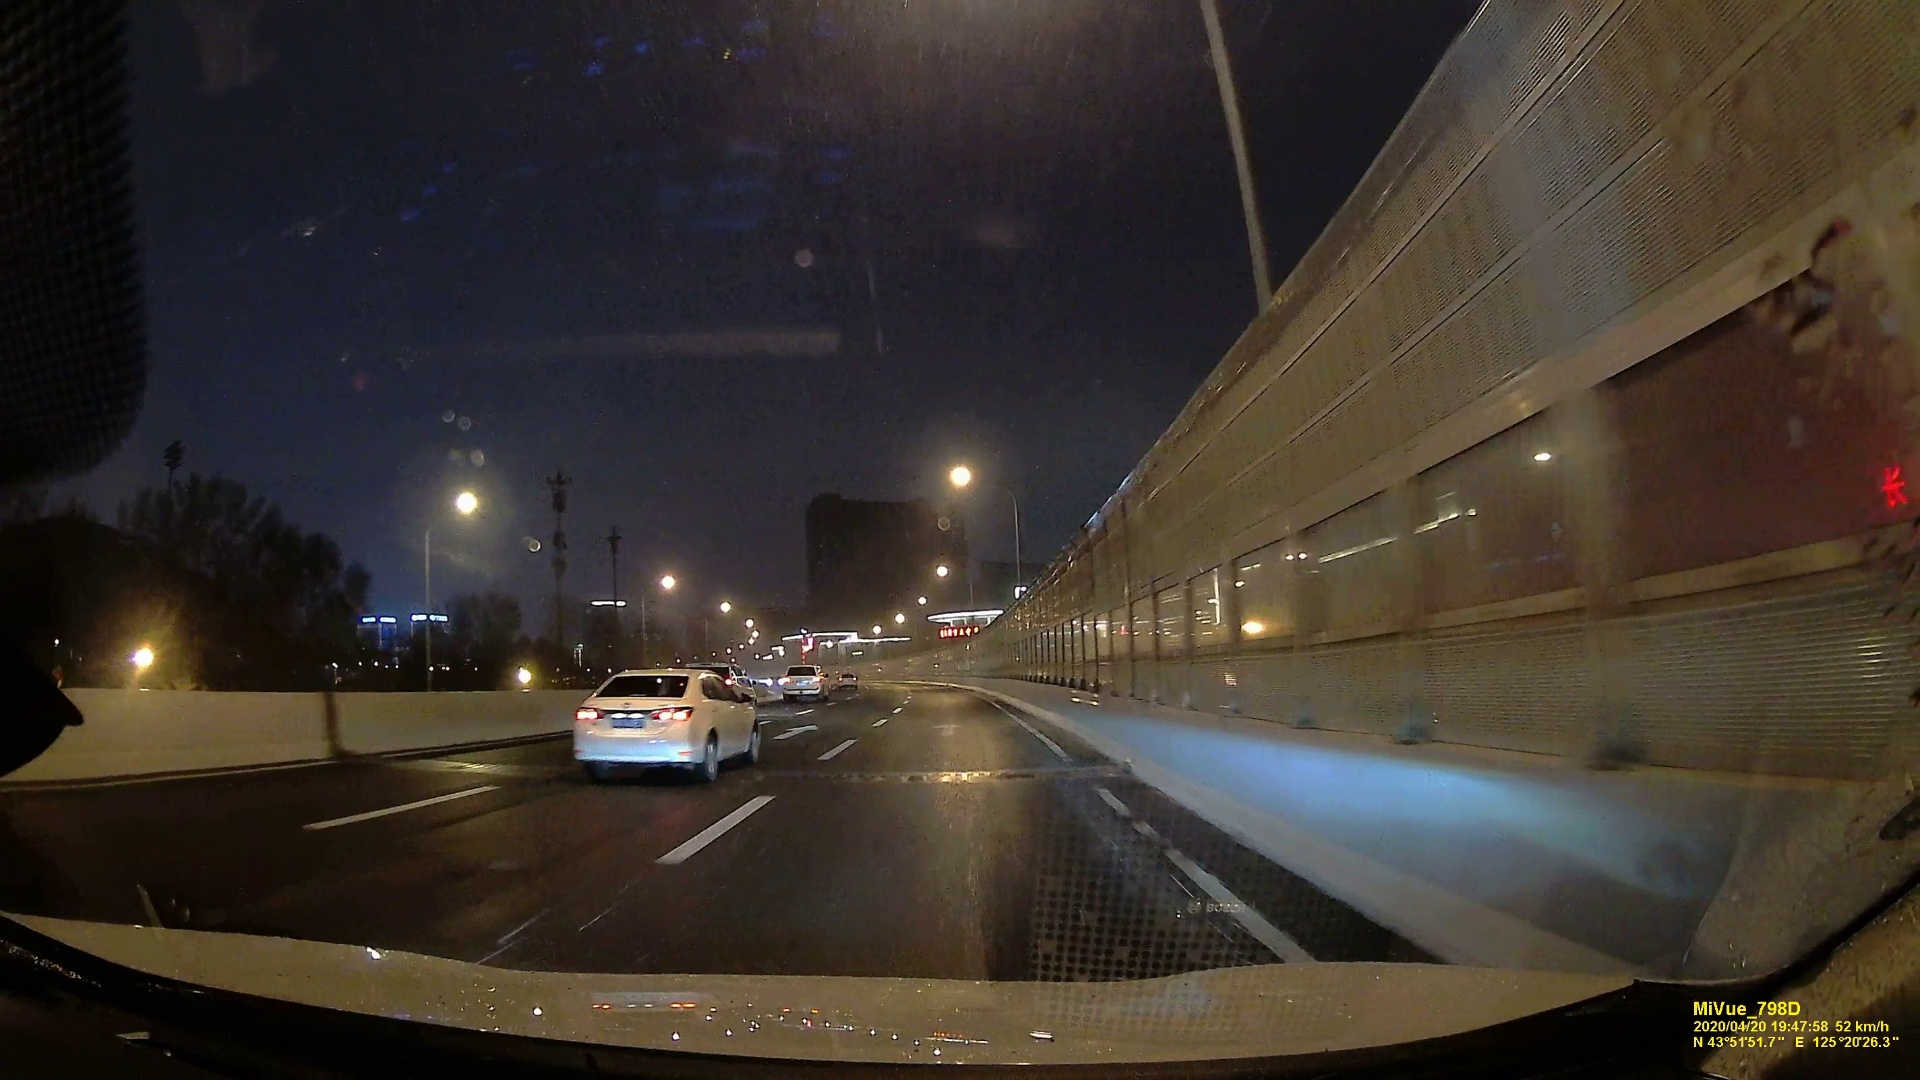vehicle: (574, 665, 761, 785), (781, 665, 827, 702), (839, 673, 858, 688)
